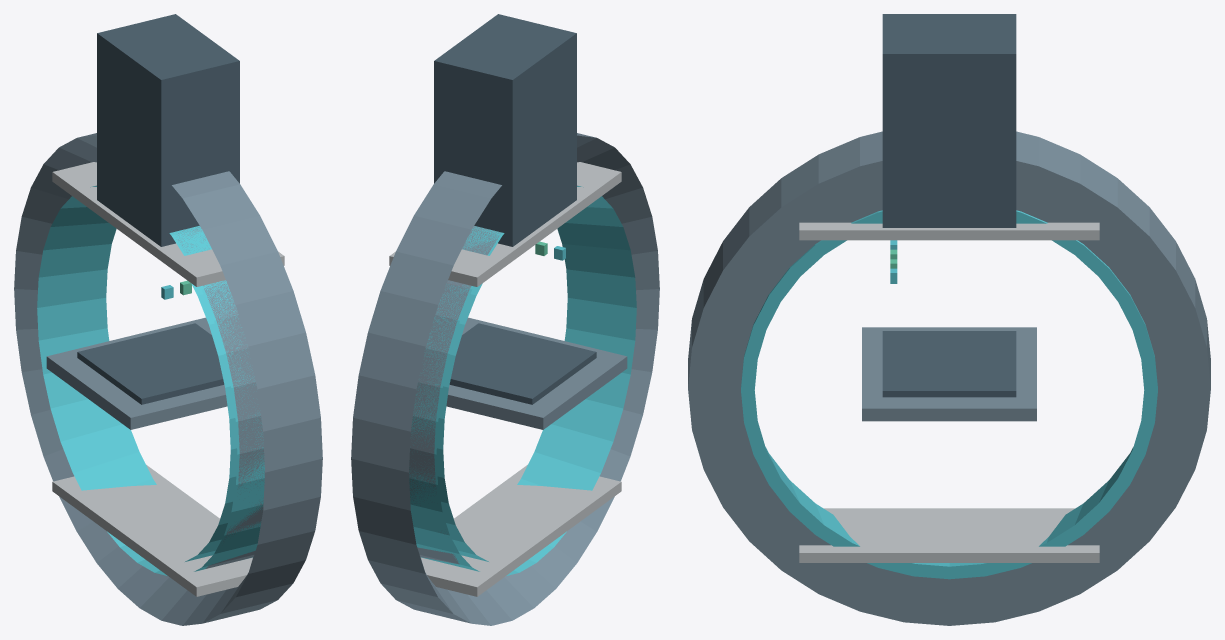
The model's file is 06_L78_PrecisionVacuumGateValve.glb.
3 views of the same model, side by side, from view 1: azimuth 30°, elevation 25°; view 2: azimuth 150°, elevation 25°; view 3: azimuth 270°, elevation 25° (orthographic). The views are drawn at different scales.
Parts seen in each view (by area): view 1: PrecisionVacuumGateValve_Node_0000, PrecisionVacuumGateValve_Node_0002, PrecisionVacuumGateValve_Node_0001, PrecisionVacuumGateValve_Node_0003, PrecisionVacuumGateValve_Node_0006, PrecisionVacuumGateValve_Node_0005, PrecisionVacuumGateValve_Node_0004; view 2: PrecisionVacuumGateValve_Node_0000, PrecisionVacuumGateValve_Node_0002, PrecisionVacuumGateValve_Node_0001, PrecisionVacuumGateValve_Node_0003, PrecisionVacuumGateValve_Node_0006, PrecisionVacuumGateValve_Node_0005, PrecisionVacuumGateValve_Node_0004; view 3: PrecisionVacuumGateValve_Node_0000, PrecisionVacuumGateValve_Node_0002, PrecisionVacuumGateValve_Node_0001, PrecisionVacuumGateValve_Node_0003, PrecisionVacuumGateValve_Node_0006, PrecisionVacuumGateValve_Node_0005, PrecisionVacuumGateValve_Node_0004.
Part boxes in pixels (x1,y1,x2,y2): PrecisionVacuumGateValve_Node_0000: (14, 133, 322, 625); PrecisionVacuumGateValve_Node_0002: (97, 14, 239, 246); PrecisionVacuumGateValve_Node_0001: (37, 186, 264, 575); PrecisionVacuumGateValve_Node_0003: (52, 464, 252, 596); PrecisionVacuumGateValve_Node_0006: (77, 323, 224, 404); PrecisionVacuumGateValve_Node_0005: (46, 317, 227, 429); PrecisionVacuumGateValve_Node_0004: (52, 162, 284, 286); PrecisionVacuumGateValve_Node_0000: (351, 133, 659, 625); PrecisionVacuumGateValve_Node_0002: (434, 14, 576, 246); PrecisionVacuumGateValve_Node_0001: (409, 186, 636, 575); PrecisionVacuumGateValve_Node_0003: (421, 464, 621, 596); PrecisionVacuumGateValve_Node_0006: (449, 323, 596, 404); PrecisionVacuumGateValve_Node_0005: (446, 317, 627, 429); PrecisionVacuumGateValve_Node_0004: (389, 162, 621, 286); PrecisionVacuumGateValve_Node_0000: (688, 131, 1210, 625); PrecisionVacuumGateValve_Node_0002: (882, 14, 1016, 227); PrecisionVacuumGateValve_Node_0001: (741, 210, 1157, 579); PrecisionVacuumGateValve_Node_0003: (799, 508, 1099, 562); PrecisionVacuumGateValve_Node_0006: (882, 331, 1016, 397); PrecisionVacuumGateValve_Node_0005: (862, 327, 1036, 421); PrecisionVacuumGateValve_Node_0004: (799, 222, 1099, 240).
Bounding box in the file's own units: 0.69 × 2.29 × 1.88.
